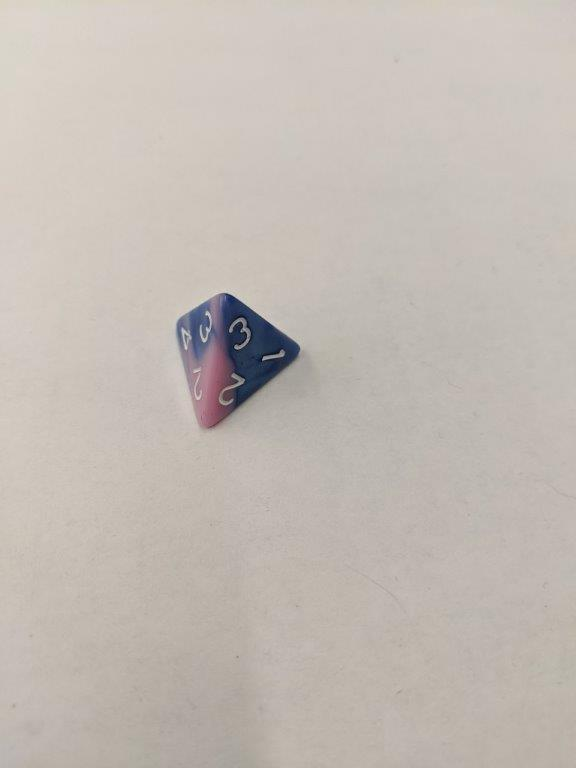d4-3: (174, 288, 303, 435)
